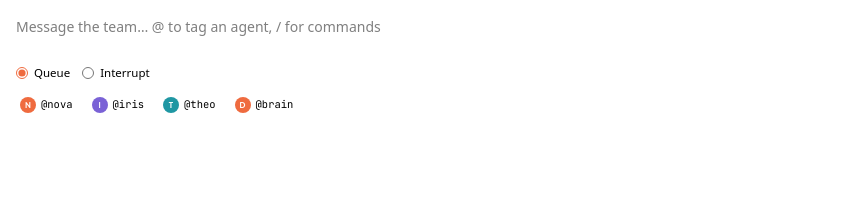
Domain composer › @all says whom it reaches and whom it skips, and refuses to interrupt
Type "@all wrap up" into the text box labelled "Message" at (432, 37), box left=16, top=16, right=848, bottom=58
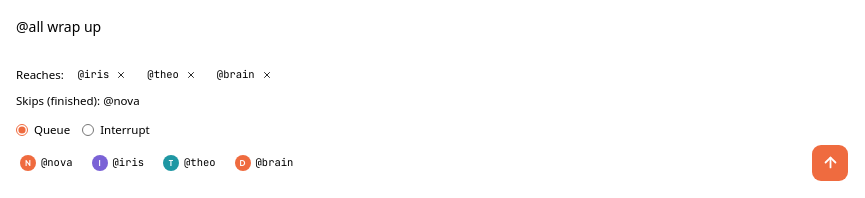
Result: the text with test id "composer-skips" shows "@nova" at left=103, top=93, right=140, bottom=108
Click the radio button labelled "Interrupt" at (88, 130), box left=82, top=124, right=94, bottom=136
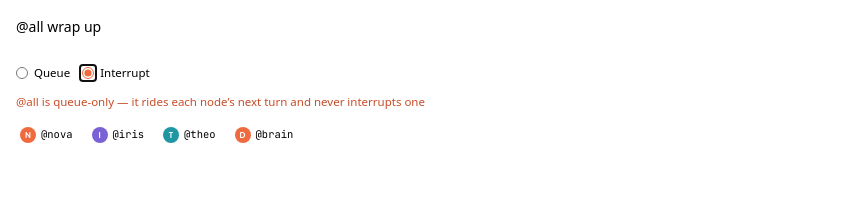
Result: the message shows "queue-only" at left=16, top=94, right=425, bottom=109
